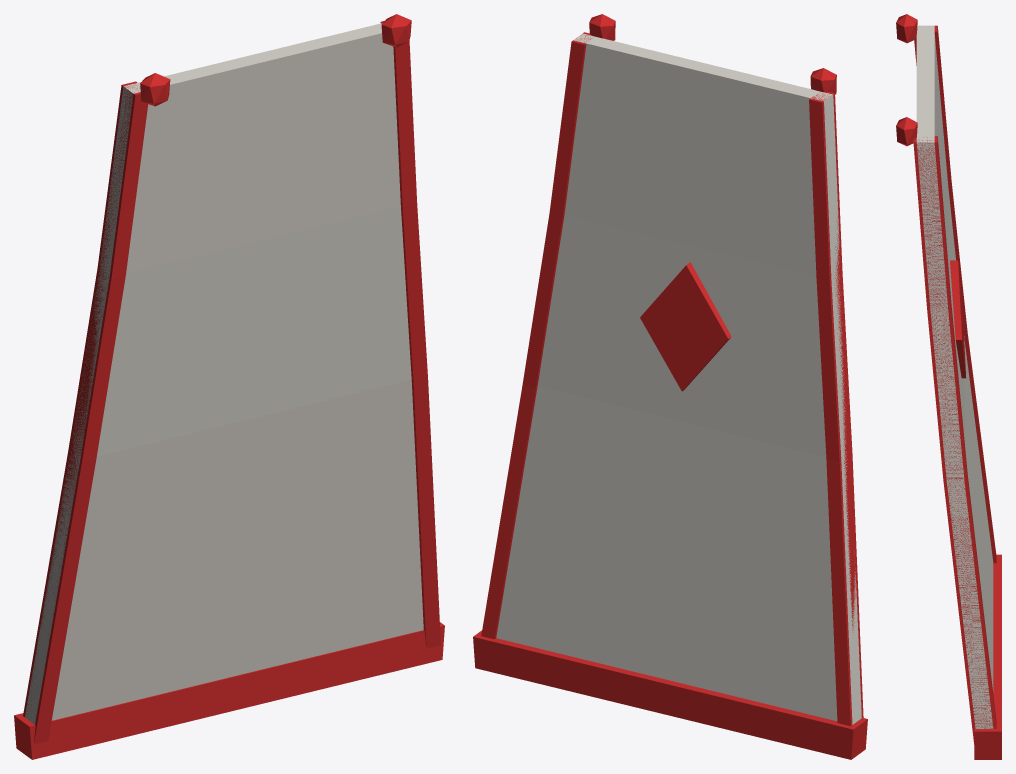
The model's file is gear_cape_hitpoints.glb.
The picture shows the model from 3 angles, left to right: view 1: azimuth 30°, elevation 25°; view 2: azimuth 150°, elevation 25°; view 3: azimuth 270°, elevation 25°; orthographic projection. The views are drawn at different scales.
Parts seen in each view (by area): view 1: gear_cape_hitpoints; view 2: gear_cape_hitpoints; view 3: gear_cape_hitpoints.
Part boxes in pixels (box(x1,y1,x2,y2)): gear_cape_hitpoints: box(14, 14, 444, 759); gear_cape_hitpoints: box(473, 14, 867, 759); gear_cape_hitpoints: box(896, 14, 1001, 759).
Size of the model in its own units: 0.516 by 0.825 by 0.1304.
